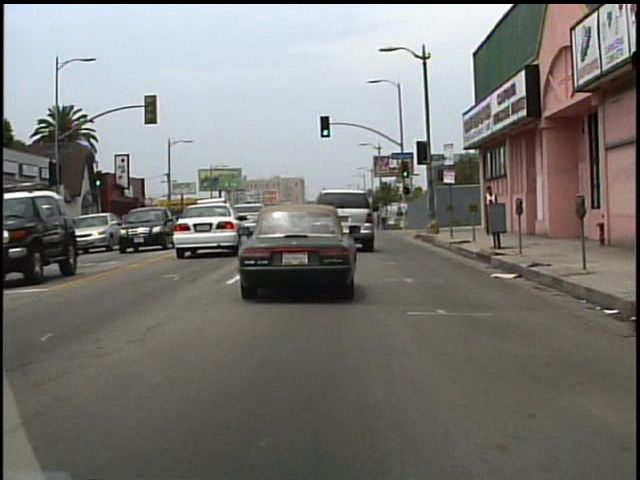person: (481, 183, 502, 236)
